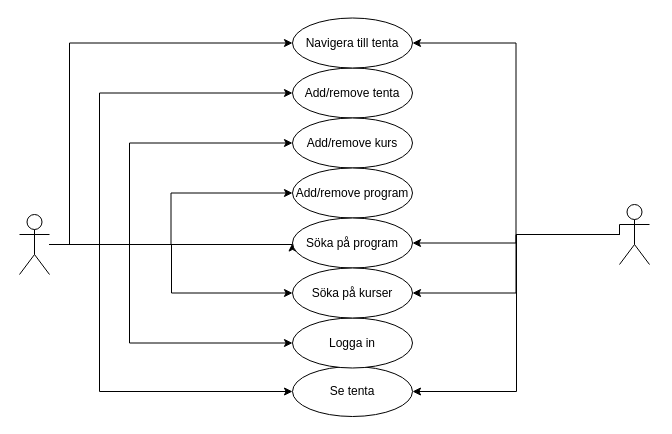
Some shapes in this 672 by 434 pixel diagram are drawn without their labels. Here are the shapes that lost their labels. From the top down, the box of each, then its label:
(18, 214, 50, 274): Admin
(618, 204, 650, 264): Student
